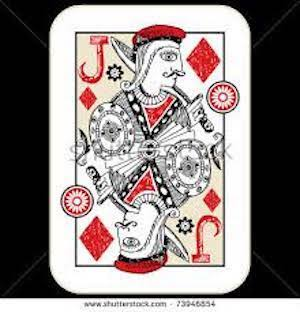JackOfDiamonds: (47, 3, 256, 294)
